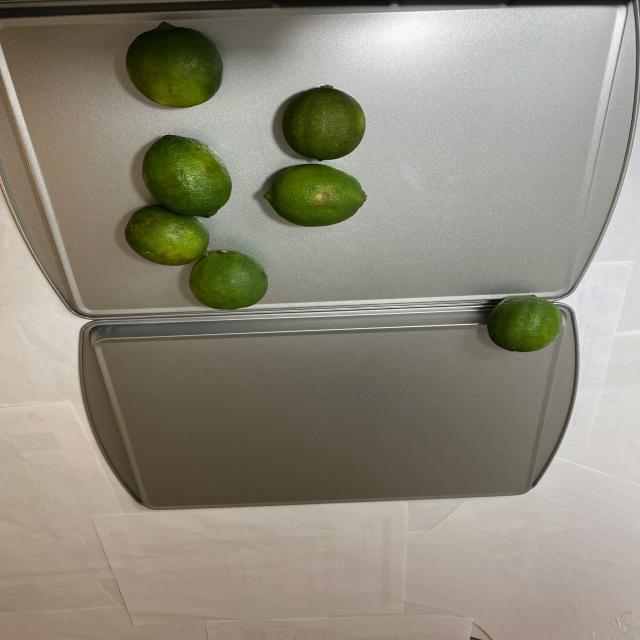lemon: (108, 21, 372, 310), (486, 295, 564, 351)
